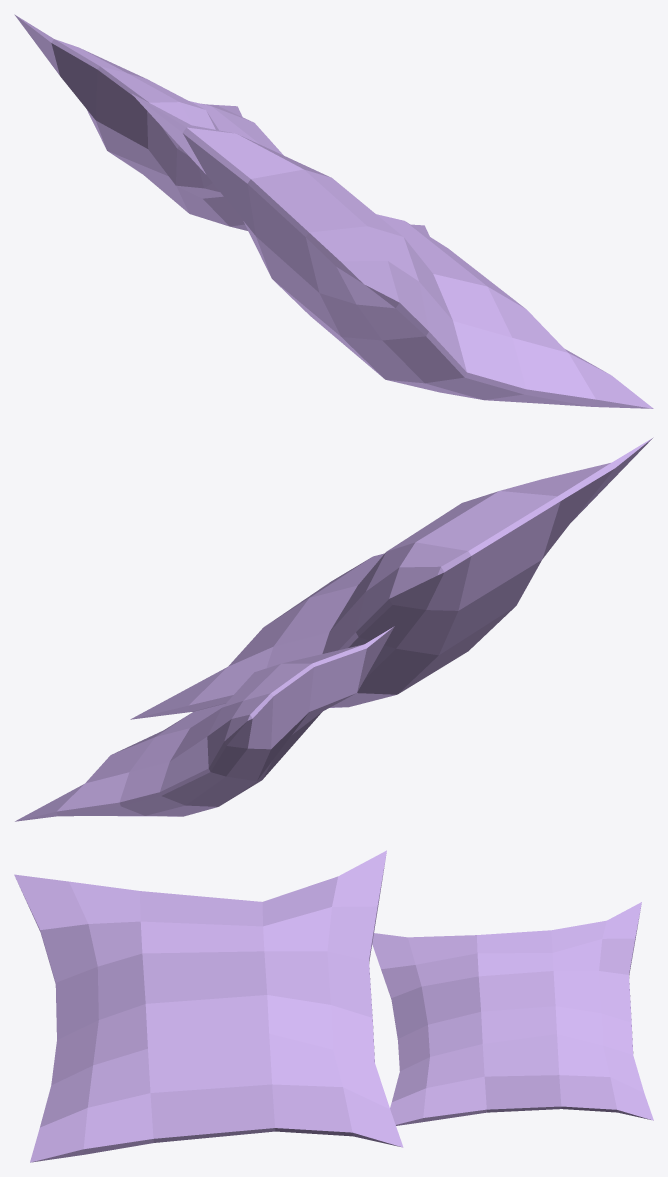
The model's file is Office_Pillows.fbx.
The picture shows the model from 3 angles, top to bottom: view 1: azimuth 30°, elevation 25°; view 2: azimuth 150°, elevation 25°; view 3: azimuth 270°, elevation 25°; orthographic projection. The views are drawn at different scales.
Parts seen in each view (by area): view 1: Office_Pillows; view 2: Office_Pillows; view 3: Office_Pillows.
Part boxes in pixels (box(x1,y1,x2,y2)): Office_Pillows: box(14, 14, 653, 408); Office_Pillows: box(15, 437, 653, 821); Office_Pillows: box(14, 850, 653, 1162).
Bounding box in the file's own units: 42.47 × 31.99 × 93.78.
